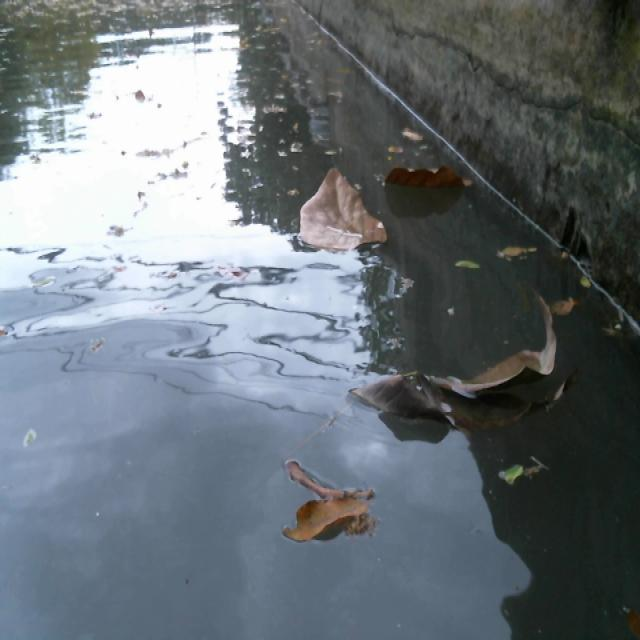Big-leaf: (347, 294, 560, 432), (278, 452, 389, 565), (283, 163, 389, 261), (391, 157, 475, 196)
Small-leaf: (499, 442, 546, 486), (495, 234, 531, 268), (456, 252, 487, 289), (403, 115, 435, 148), (551, 291, 575, 323), (575, 262, 595, 288)
